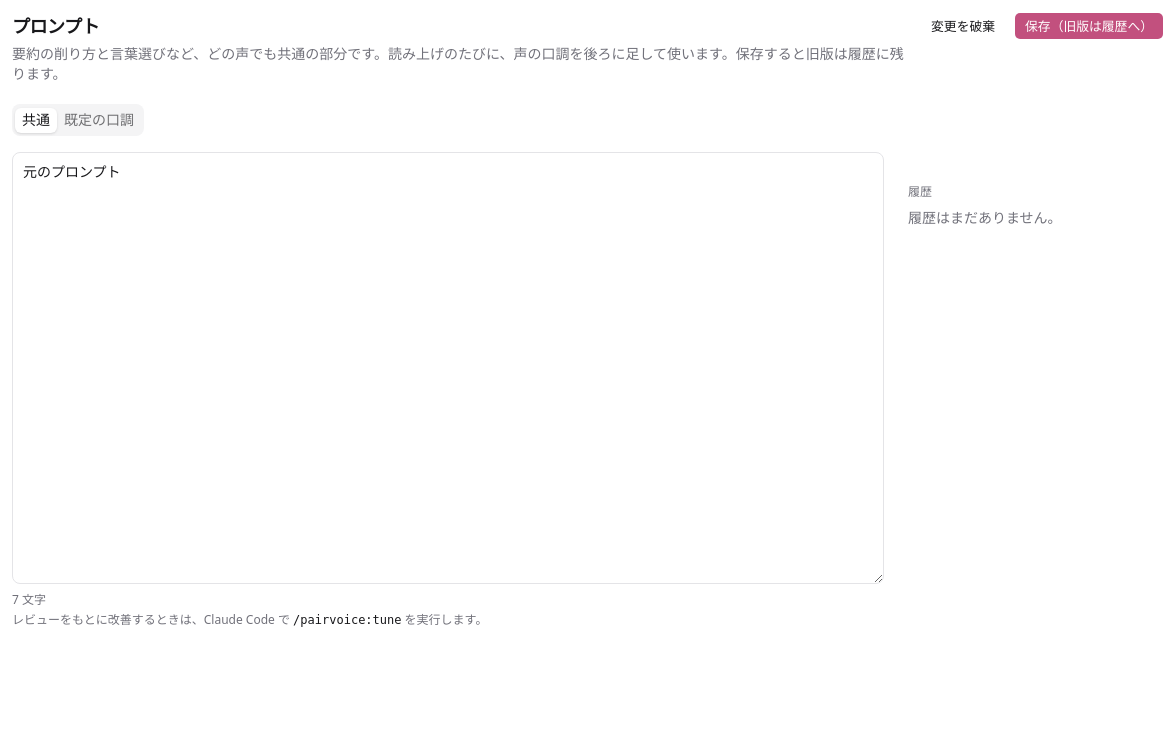
it: 変更を破棄すると保存済みの本文に戻る
The width and height of the screenshot is (1176, 732).
Step 1. Replace the text in the text box named "プロンプト" with "書きかけ" → (448, 368), box 12,152 -> 884,584
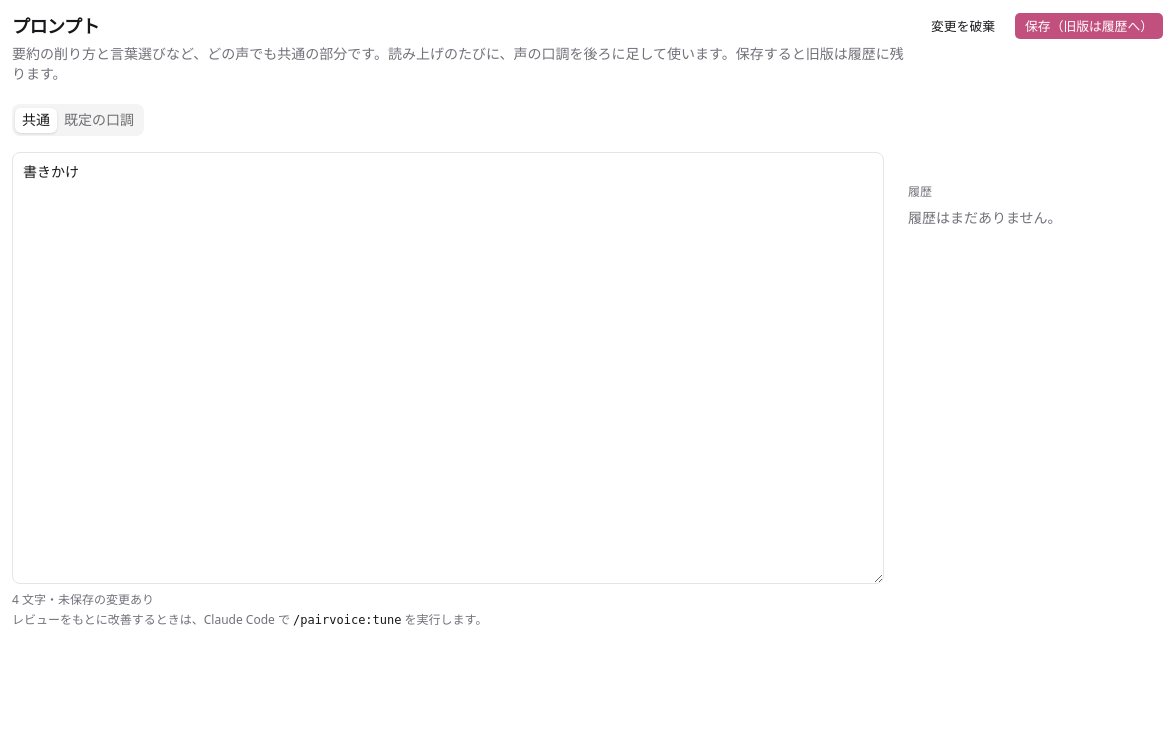
Step 2. Click the button "変更を破棄" → (963, 26), box 920,12 -> 1006,40
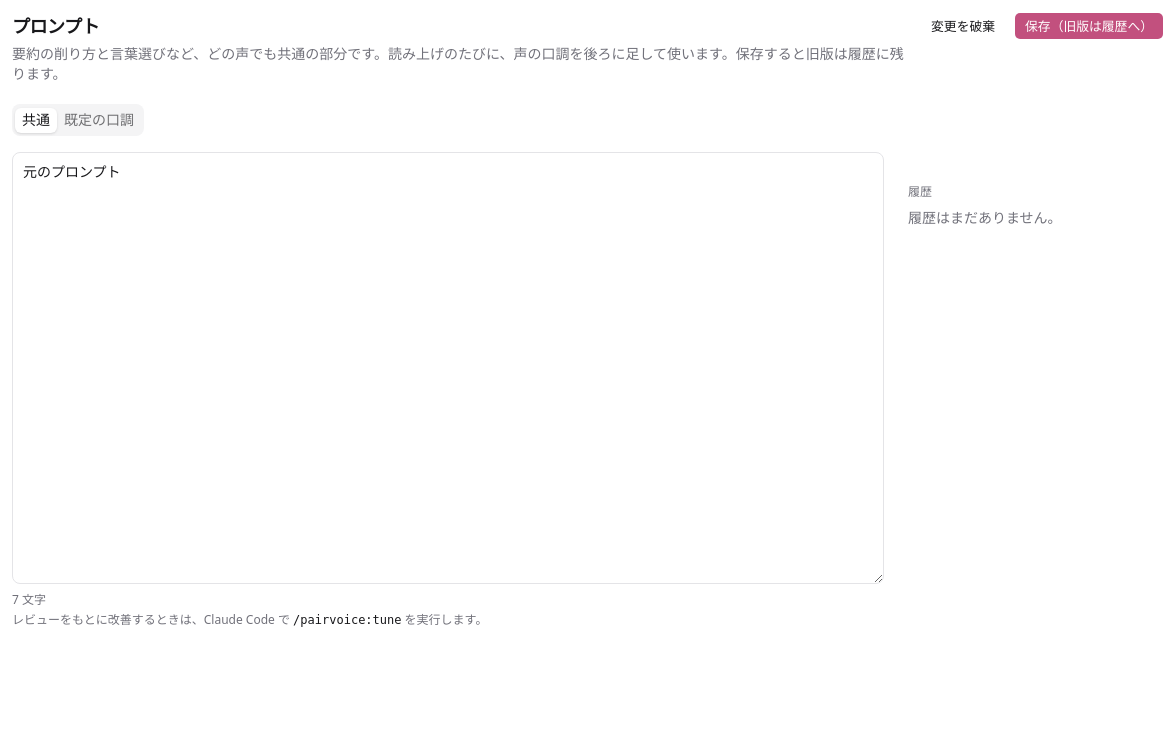
Now the text box named "プロンプト" holds "元のプロンプト", box 12,152 -> 884,584
